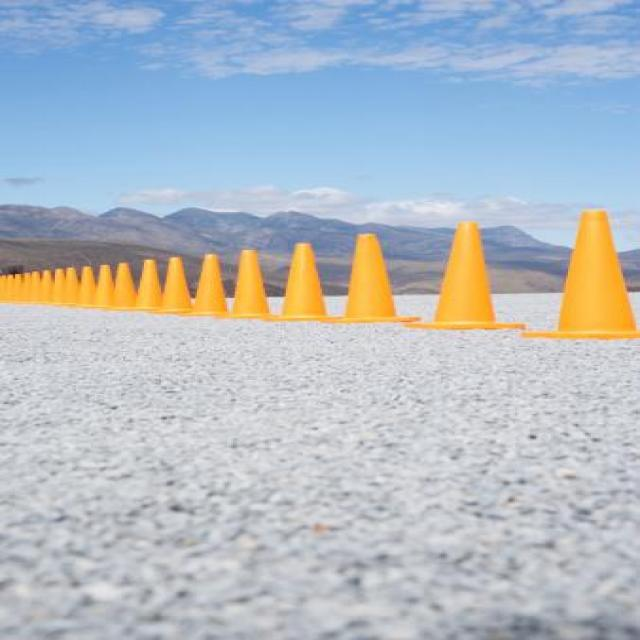Cone: (526, 212, 640, 338), (412, 221, 520, 328), (337, 230, 413, 324), (269, 242, 337, 322), (229, 247, 271, 322), (193, 253, 229, 316), (134, 258, 163, 310), (161, 256, 187, 313), (114, 262, 138, 310), (64, 268, 80, 306), (80, 265, 94, 307), (96, 263, 108, 309), (40, 270, 51, 304), (53, 269, 63, 303), (28, 270, 36, 302)
